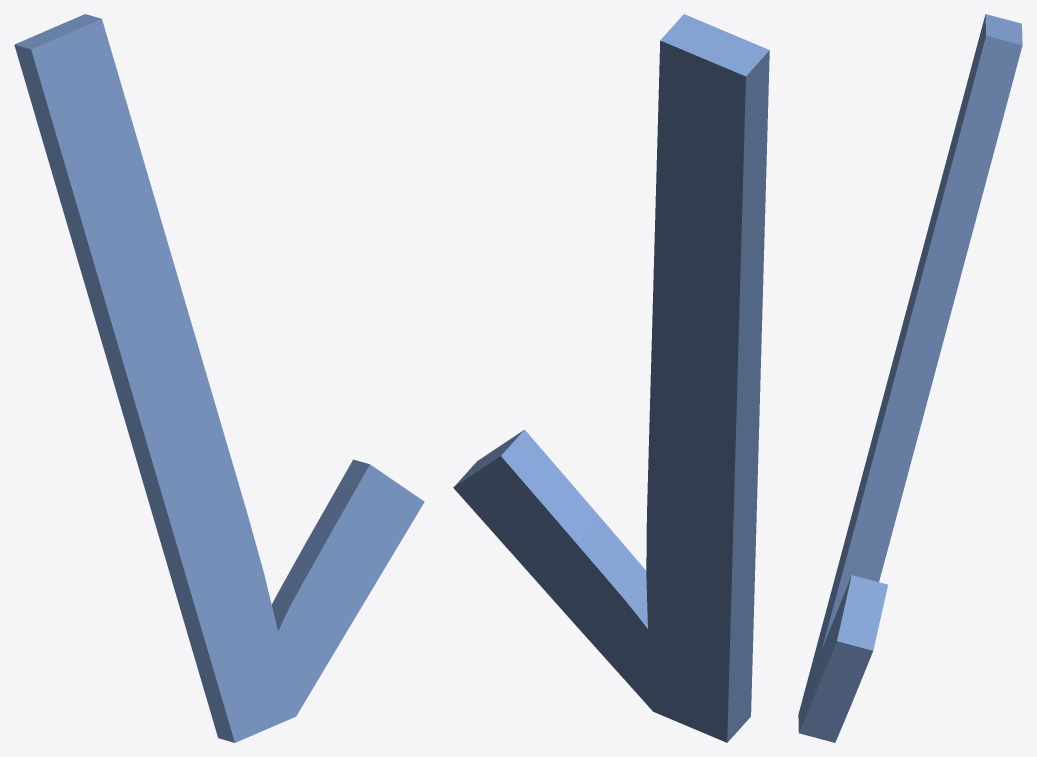
The model's file is Number_1.gltf.
3 views of the same model, side by side, from view 1: azimuth 30°, elevation 25°; view 2: azimuth 150°, elevation 25°; view 3: azimuth 270°, elevation 25° (orthographic). The views are drawn at different scales.
Parts seen in each view (by area): view 1: Sub_2_Cell_2_1_Number_1; view 2: Sub_2_Cell_2_1_Number_1; view 3: Sub_2_Cell_2_1_Number_1.
Boxes of the visible parts, x1=… form: Sub_2_Cell_2_1_Number_1: x1=14, y1=14, x2=424, y2=742; Sub_2_Cell_2_1_Number_1: x1=453, y1=14, x2=769, y2=742; Sub_2_Cell_2_1_Number_1: x1=798, y1=14, x2=1022, y2=742.
Bounding box in the file's own units: 0.0124 × 0.0248 × 0.00754.
